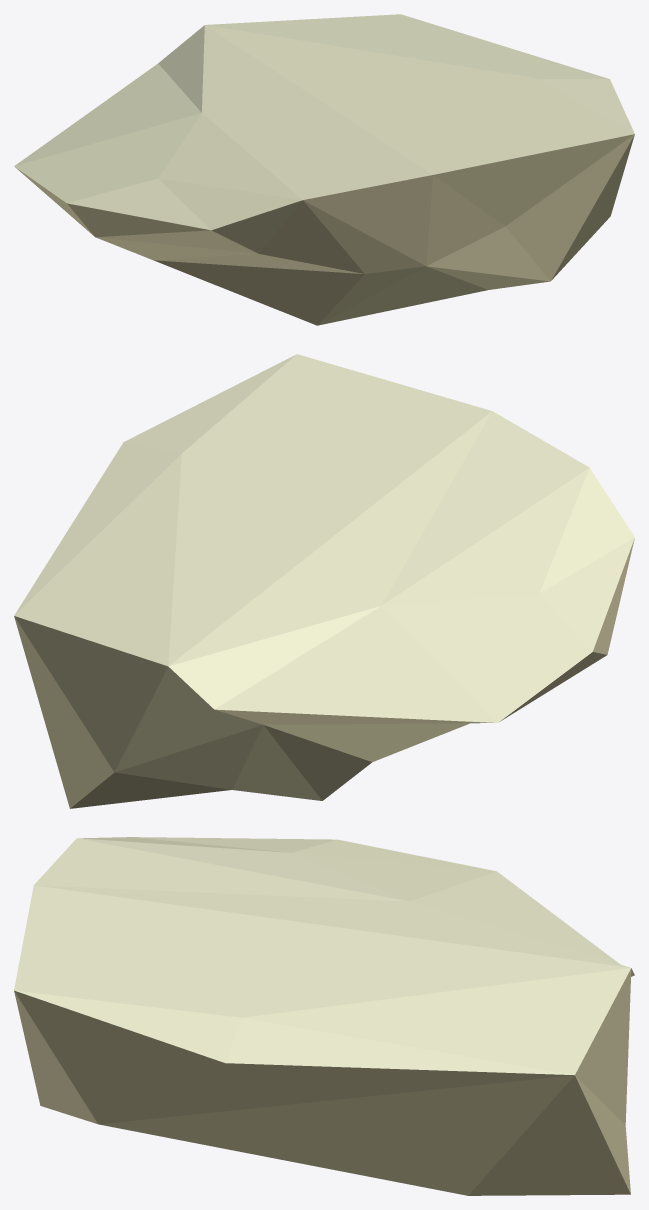
The model's file is SM_FlatRock_big001.fbx.
3 renders of one model, top to bottom at view 1: azimuth 30°, elevation 25°; view 2: azimuth 150°, elevation 25°; view 3: azimuth 270°, elevation 25°, orthographic. The views are drawn at different scales.
Visible parts, largest first — view 1: SM_FlatRock_big001; view 2: SM_FlatRock_big001; view 3: SM_FlatRock_big001.
Boxes of the visible parts, x1,y1,x2,y2 form: SM_FlatRock_big001: [14, 14, 634, 325]; SM_FlatRock_big001: [14, 354, 634, 808]; SM_FlatRock_big001: [14, 837, 634, 1195].
Size of the model in its own units: 82.51 by 36.16 by 80.43.
